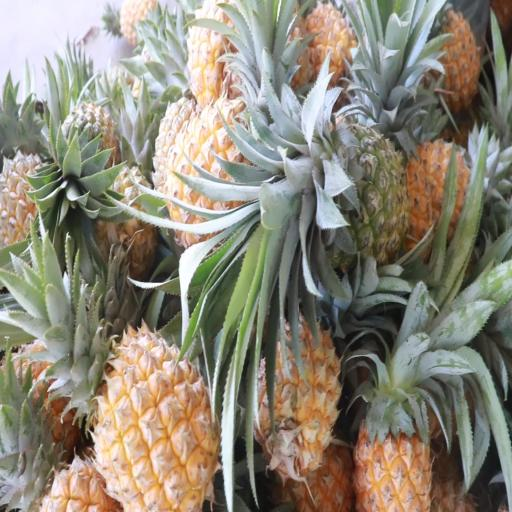Pineapple - v8 v1: (68, 297, 220, 512), (162, 89, 303, 248), (353, 295, 442, 512), (254, 306, 339, 480)
